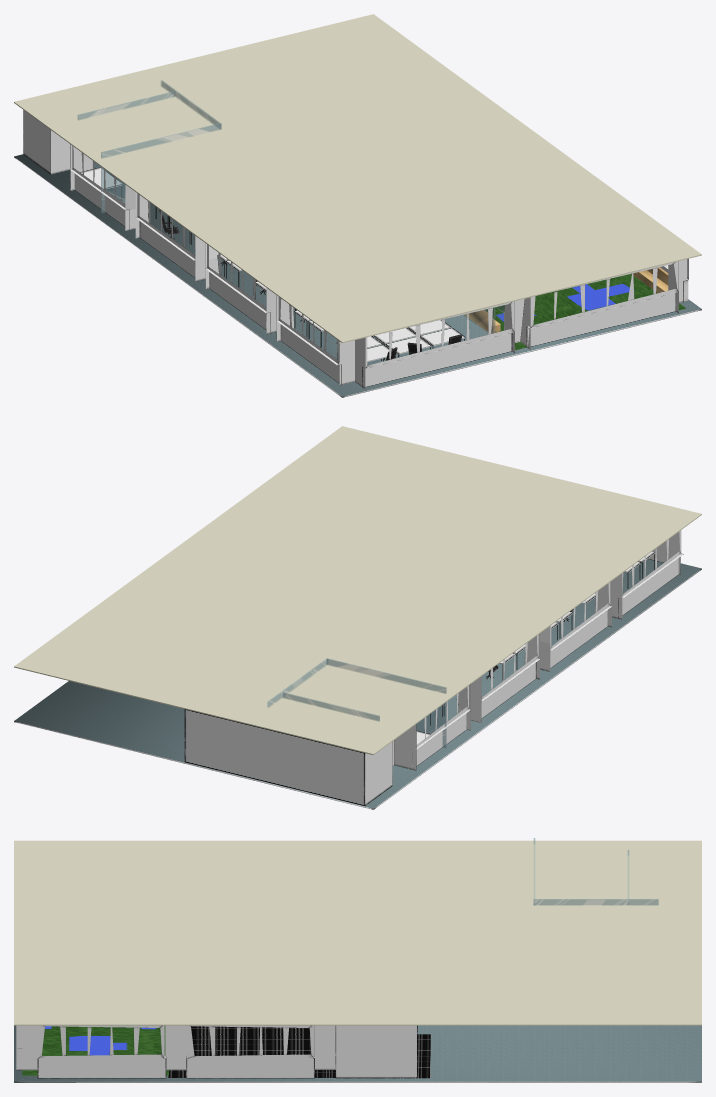
The model's file is planta6.obj.
The picture shows the model from 3 angles, top to bottom: view 1: azimuth 30°, elevation 25°; view 2: azimuth 150°, elevation 25°; view 3: azimuth 270°, elevation 25°; orthographic projection. The views are drawn at different scales.
Visible parts, largest first — view 1: Techo_Cube.029, pared, comunicacion_Cylinder.026, cristalerasFrontales_Cube.002, cristalera_entrada_Cube.001, banco_Cube.030; view 2: Techo_Cube.029, pared, cristalerasFrontales_Cube.002, cristalera_entrada_Cube.001; view 3: Techo_Cube.029, pared, cristalera_entrada_Cube.001.
Boxes of the visible parts, box(x1,y1,x2,y2) form: Techo_Cube.029: box(14, 14, 701, 342); pared: box(14, 110, 701, 397); comunicacion_Cylinder.026: box(336, 320, 465, 361); cristalerasFrontales_Cube.002: box(101, 123, 220, 212); cristalera_entrada_Cube.001: box(77, 80, 221, 168); banco_Cube.030: box(464, 267, 668, 333); Techo_Cube.029: box(14, 426, 701, 754); pared: box(14, 530, 701, 809); cristalerasFrontales_Cube.002: box(326, 658, 446, 748); cristalera_entrada_Cube.001: box(267, 658, 379, 721); Techo_Cube.029: box(14, 840, 701, 1025); pared: box(14, 1025, 701, 1082); cristalera_entrada_Cube.001: box(533, 850, 658, 905).
Size of the model in its own units: 9.76 by 1.62 by 15.43.
19 materials, 15 textured.
